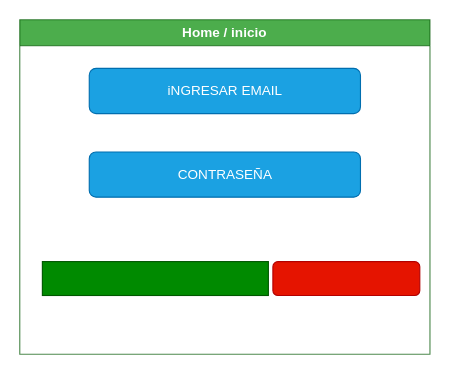
Image size: 450x374. Some labels were removed from this diagram. Here are the shapes that lost their labels. From the top down, the centre of each, then its label:
At pixel 154 277: "ME OLVIDE LA CONTRASEÑA".
At pixel 346 277: "INGRESAR".
